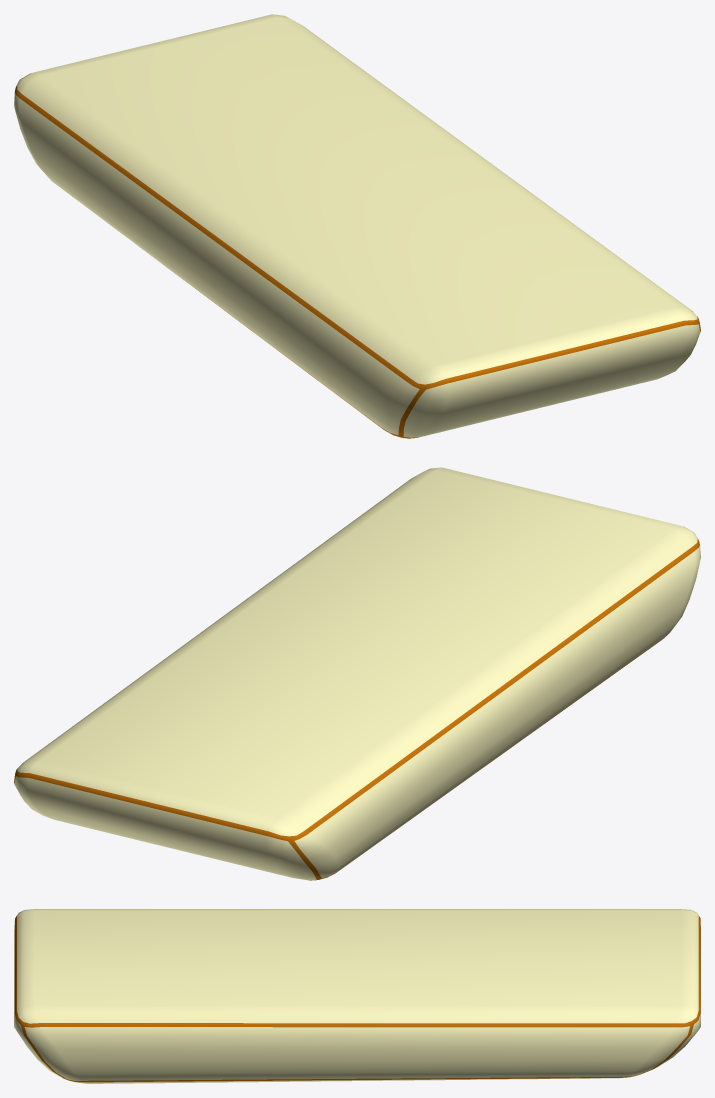
The model's file is Matress.fbx.
3 views of the same model, one above another, from view 1: azimuth 30°, elevation 25°; view 2: azimuth 150°, elevation 25°; view 3: azimuth 270°, elevation 25° (orthographic). The views are drawn at different scales.
Parts seen in each view (by area): view 1: Matress; view 2: Matress; view 3: Matress.
Part boxes in pixels (x1=…): Matress: x1=14, y1=14, x2=700, y2=438; Matress: x1=14, y1=467, x2=700, y2=880; Matress: x1=14, y1=909, x2=700, y2=1083.
Size of the model in its own units: 2.16 by 0.6307 by 5.18.
